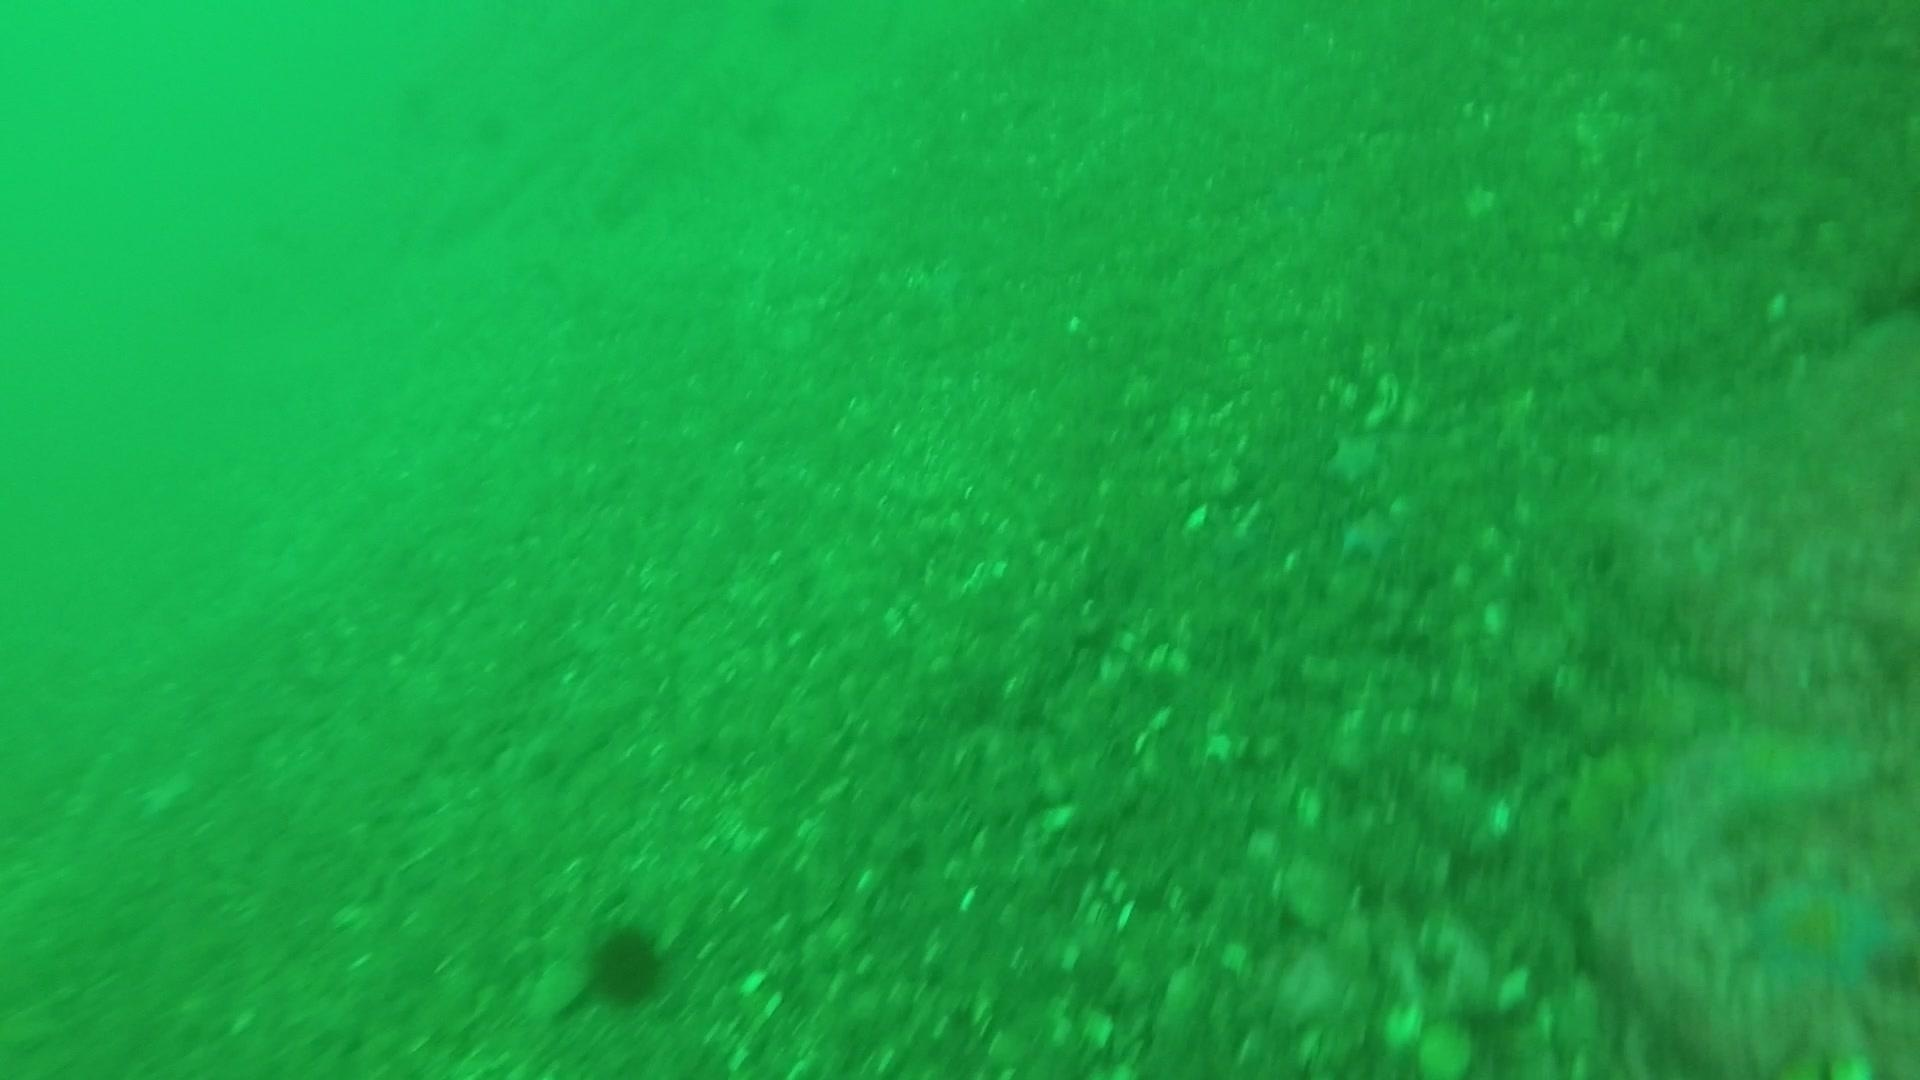echinus: (578, 916, 674, 1011)
starfish: (1735, 858, 1912, 1007), (1332, 498, 1408, 568)
